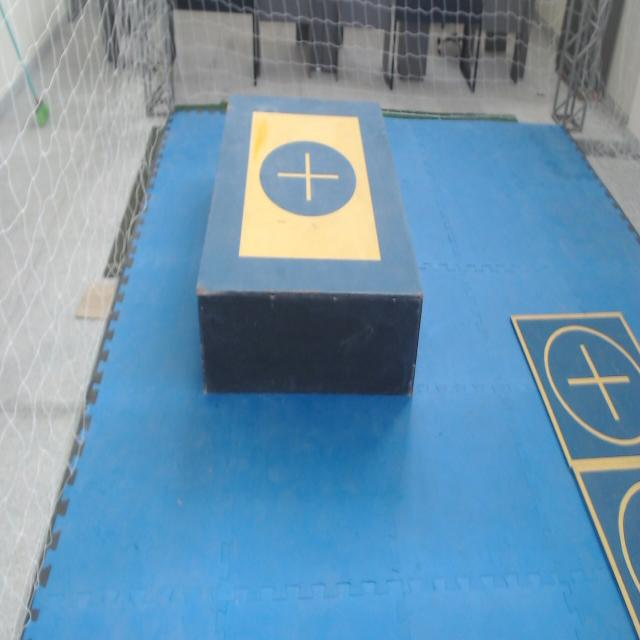base_inicio: (237, 111, 382, 261)
base_pouso: (509, 312, 640, 467), (572, 461, 639, 639)
